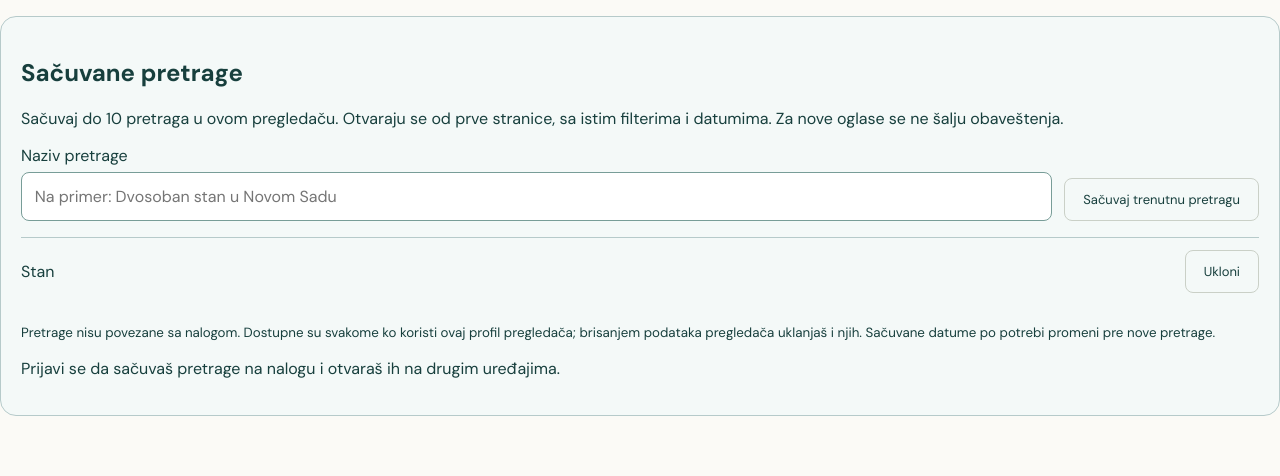
does not report success or discard the visible list when storage fails
Click the button with aria-label "Ukloni pretragu: Stan" at [1222, 271], box [1185, 250, 1259, 293]
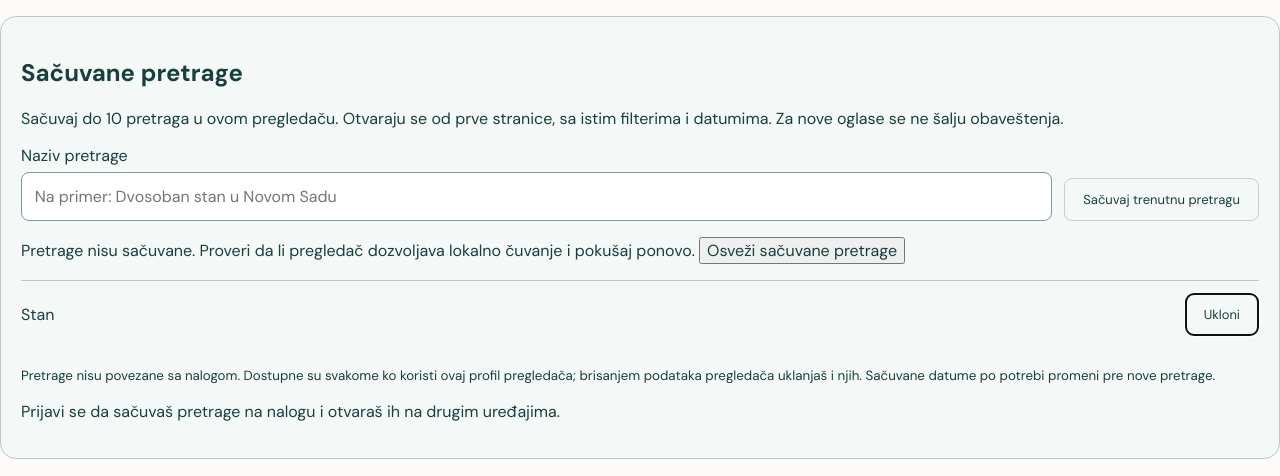
Check: the link "Stan" is shown, box [21, 304, 54, 325]
Check: the message is shown, box [21, 237, 905, 264]
